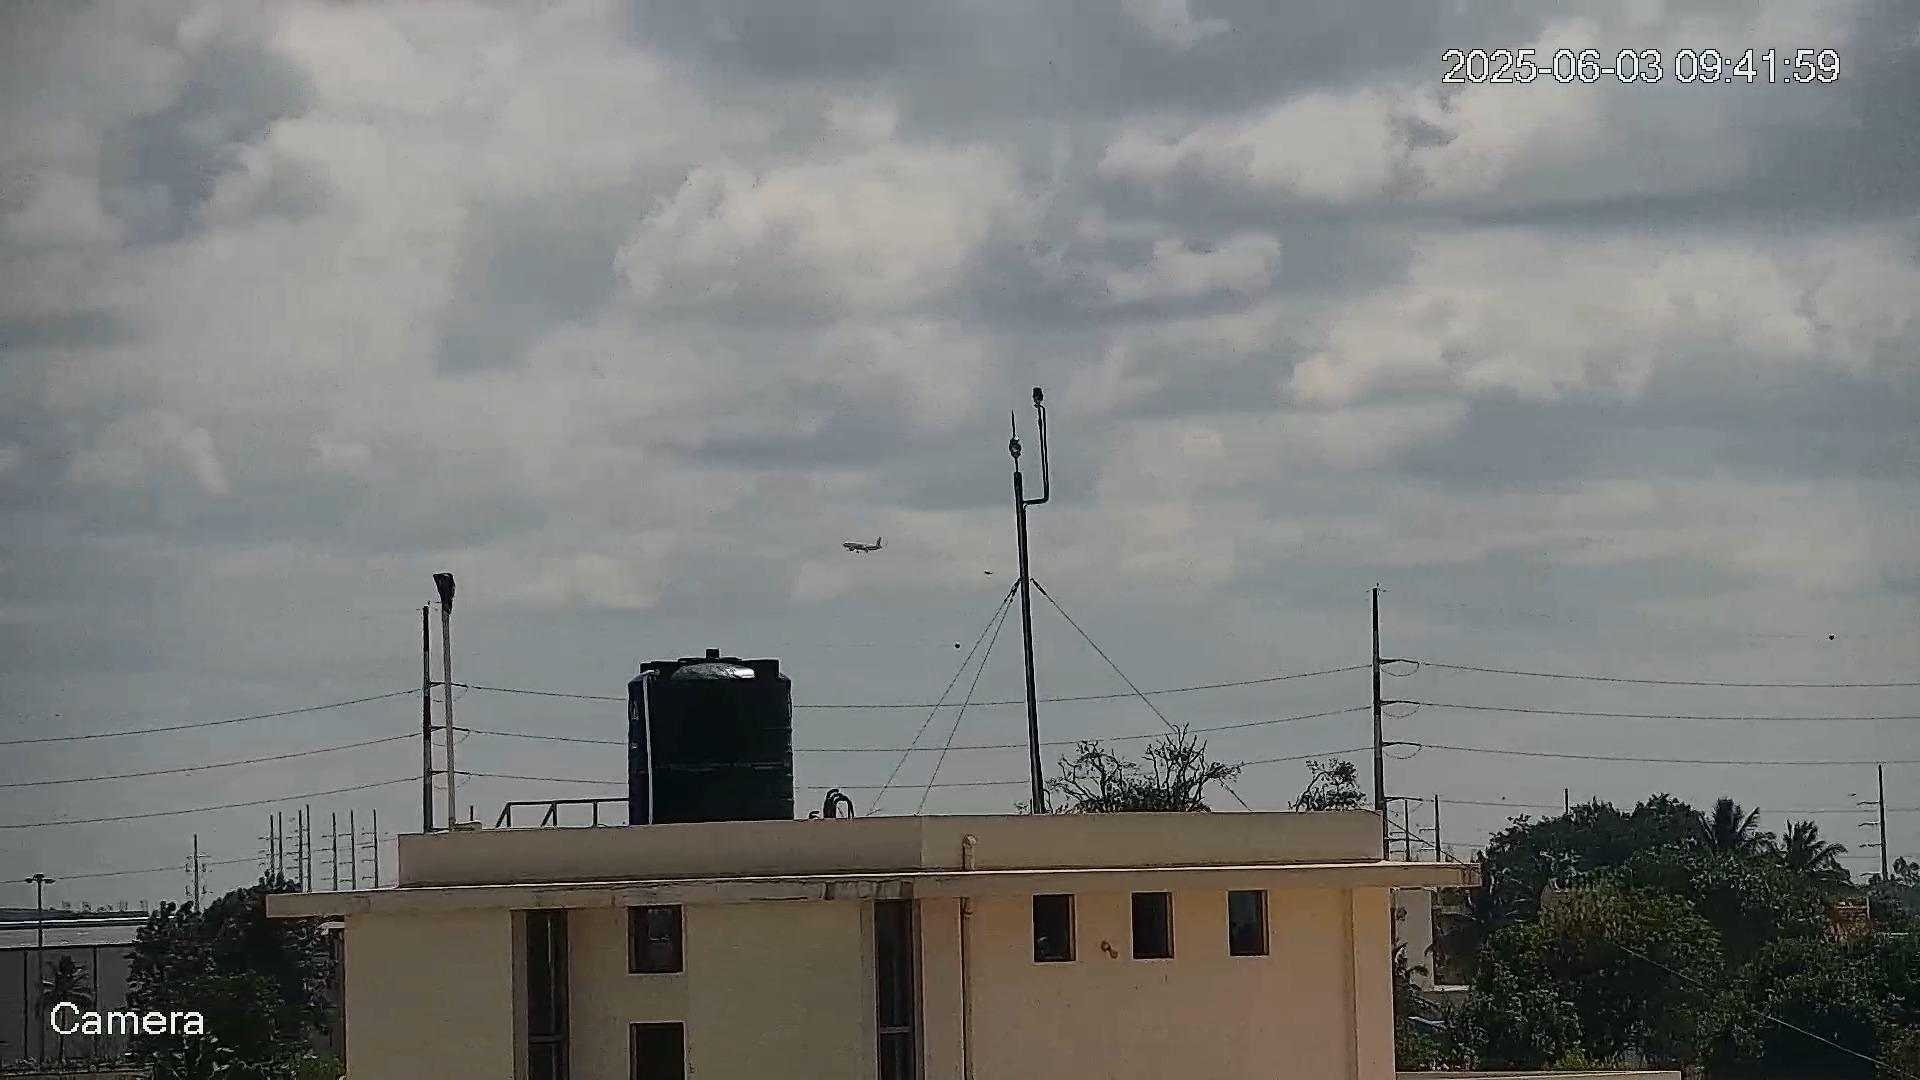Aircraft: (840, 534, 886, 553)
